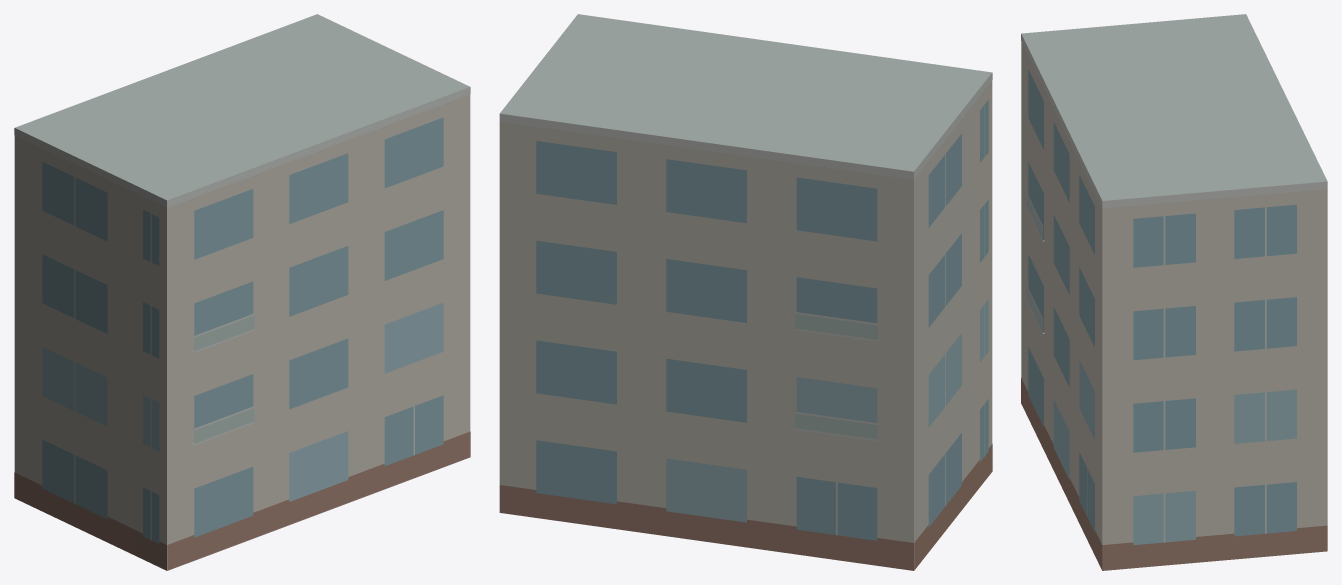
The model's file is residential-f30adfa0-0e82-440e-8ab6-963b7ae16759.glb.
3 views of the same model, side by side, from view 1: azimuth 30°, elevation 25°; view 2: azimuth 150°, elevation 25°; view 3: azimuth 270°, elevation 25° (orthographic). The views are drawn at different scales.
Parts seen in each view (by area): view 1: residential-f30adfa0-0e82-440e-8ab6-963b7ae16759.tmp; view 2: residential-f30adfa0-0e82-440e-8ab6-963b7ae16759.tmp; view 3: residential-f30adfa0-0e82-440e-8ab6-963b7ae16759.tmp.
Part boxes in pixels (x1,y1,x2,y2): residential-f30adfa0-0e82-440e-8ab6-963b7ae16759.tmp: (14, 14, 470, 570); residential-f30adfa0-0e82-440e-8ab6-963b7ae16759.tmp: (499, 14, 992, 570); residential-f30adfa0-0e82-440e-8ab6-963b7ae16759.tmp: (1021, 14, 1327, 570).
Size of the model in its own units: 13.24 by 12.2 by 9.17.
